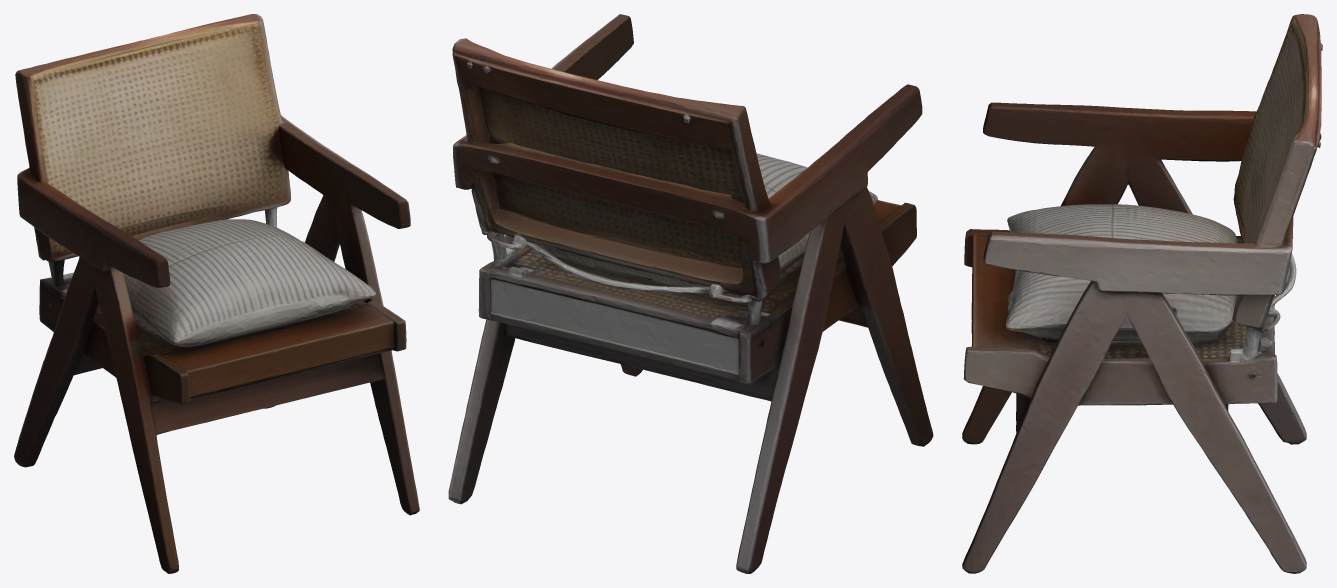
Rendered from ast_390a0d12583c.glb.
3 views of the same model, side by side, from view 1: azimuth 30°, elevation 25°; view 2: azimuth 150°, elevation 25°; view 3: azimuth 270°, elevation 25° (orthographic). The views are drawn at different scales.
Parts seen in each view (by area): view 1: geometry_0; view 2: geometry_0; view 3: geometry_0.
Boxes of the visible parts, x1=… form: geometry_0: x1=14, y1=14, x2=419, y2=573; geometry_0: x1=448, y1=14, x2=933, y2=573; geometry_0: x1=962, y1=14, x2=1322, y2=573.
Size of the model in its own units: 0.7097 by 1 by 0.7627.
Materials: 1 (1 with a texture image).
